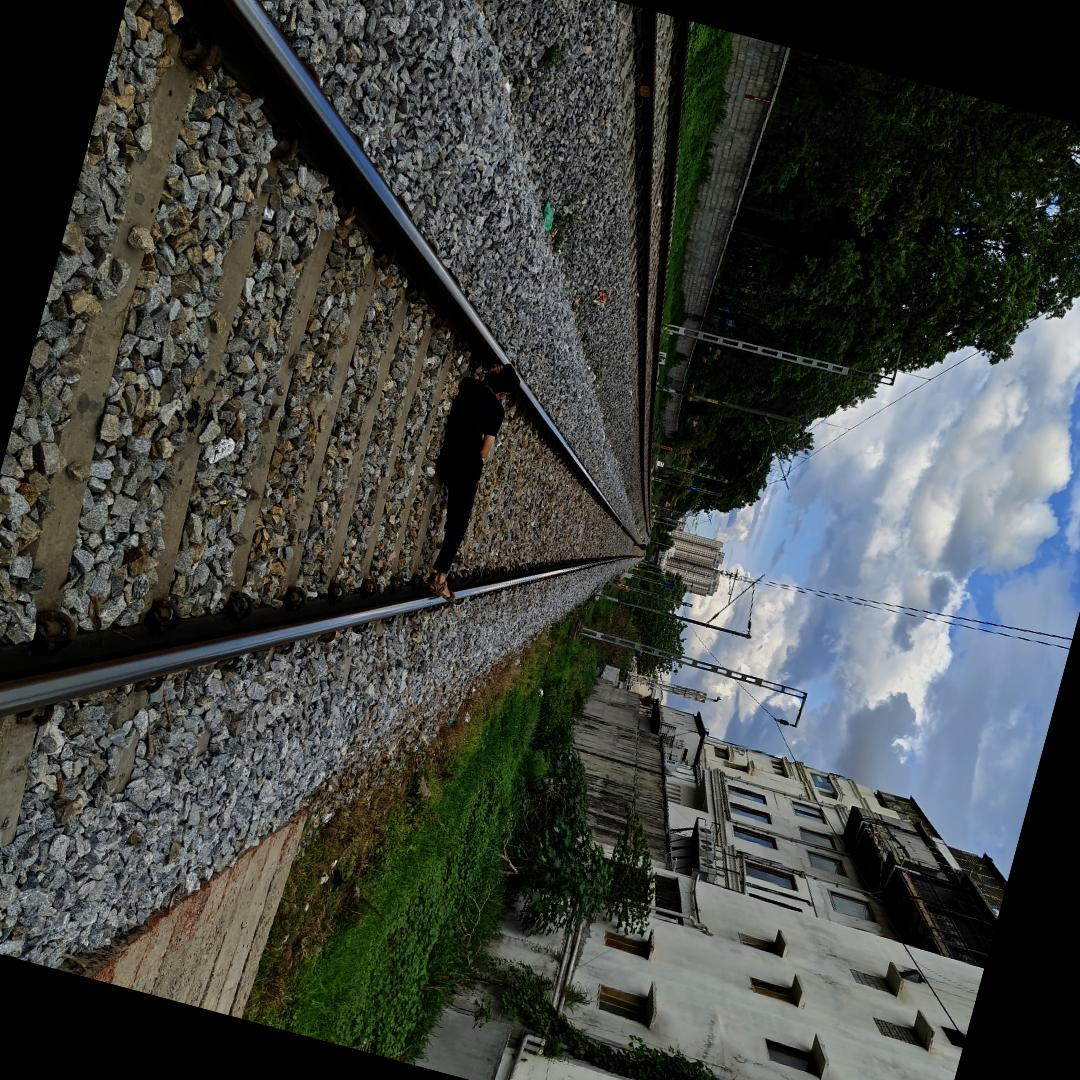sleeping: (391, 335, 541, 616)
